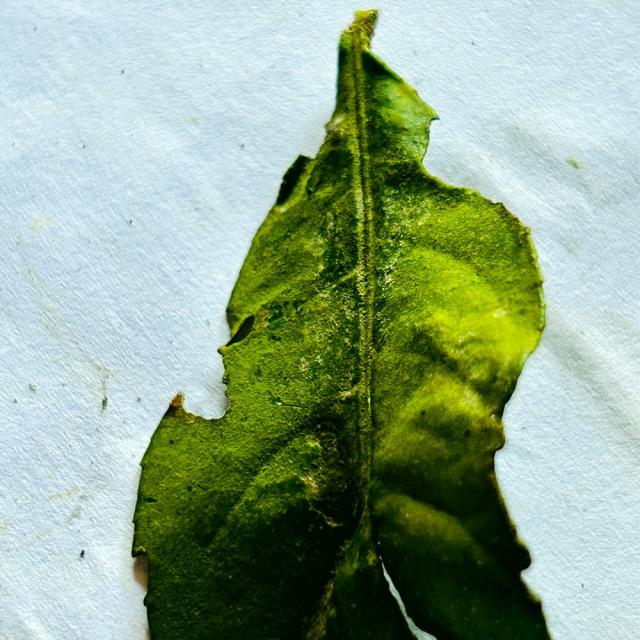Deficiency Leaf: (175, 35, 348, 417), (500, 339, 554, 637), (418, 115, 515, 209)
Lemon: (132, 11, 549, 639)
